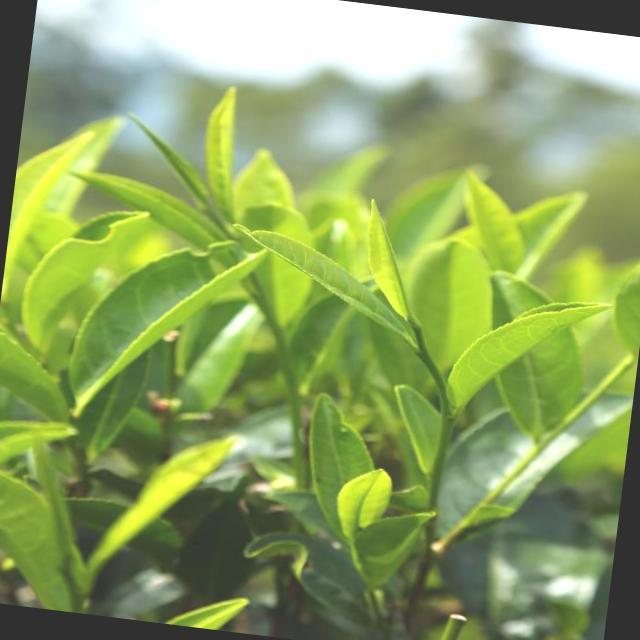Stem: (436, 413, 459, 451)
